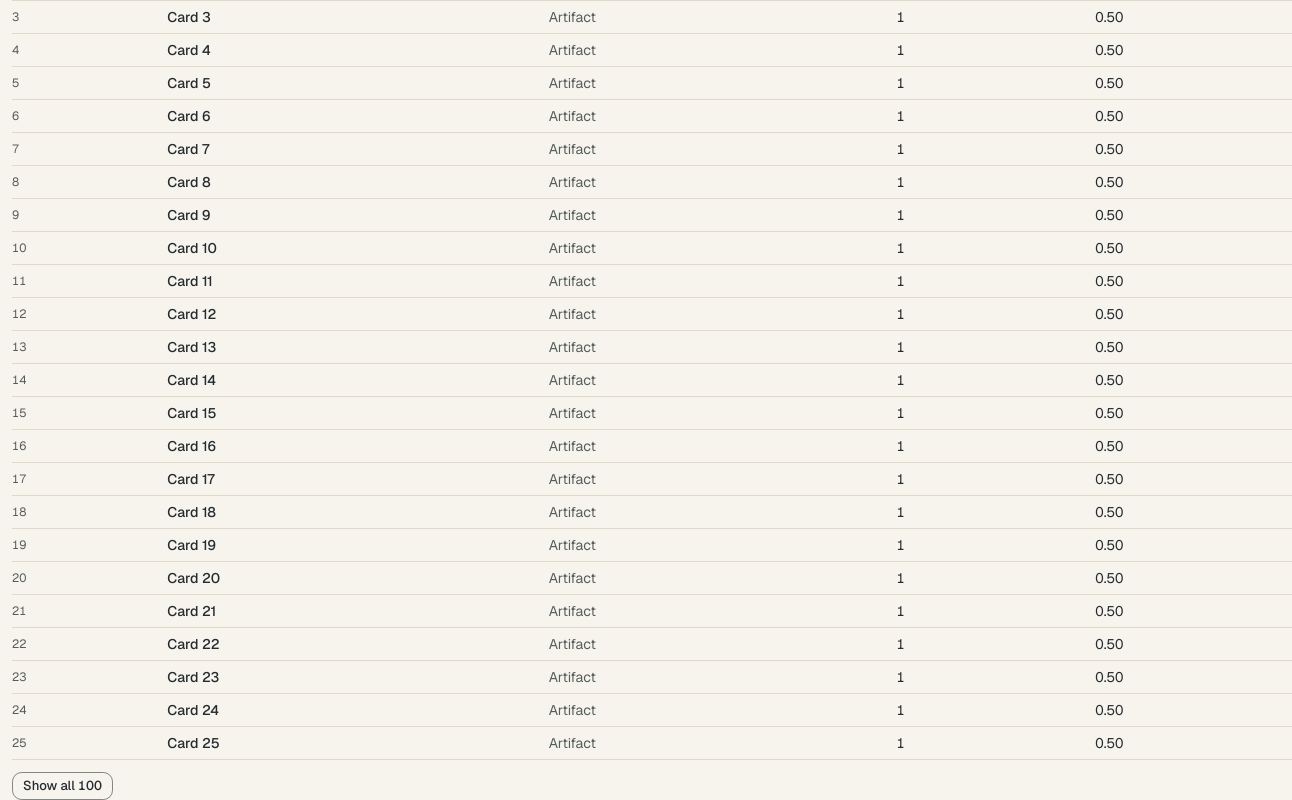
Scenario: StaplesTable fold (U7b, WAVE5 D8) › renders every row, hides the ones past 25, and opens them all on Show all 100
(page scrolled)
Expected: the row "25 Card 25 Artifact 1 0.50" is shown, [12,726,1291,760]
Click the button "Show all 100" at (62, 786), box [12,772,113,799]
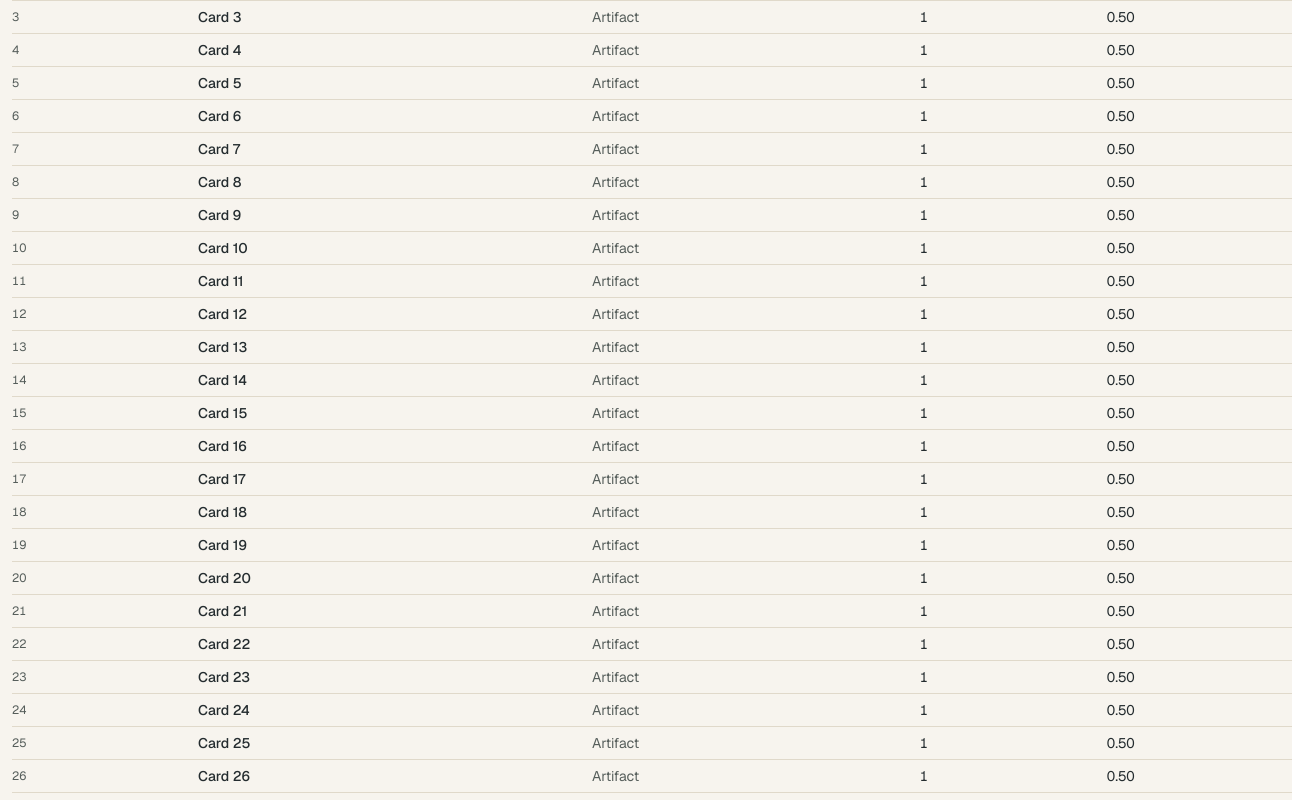
Result: the number of rows is 101
Result: the button "Show all" is gone
